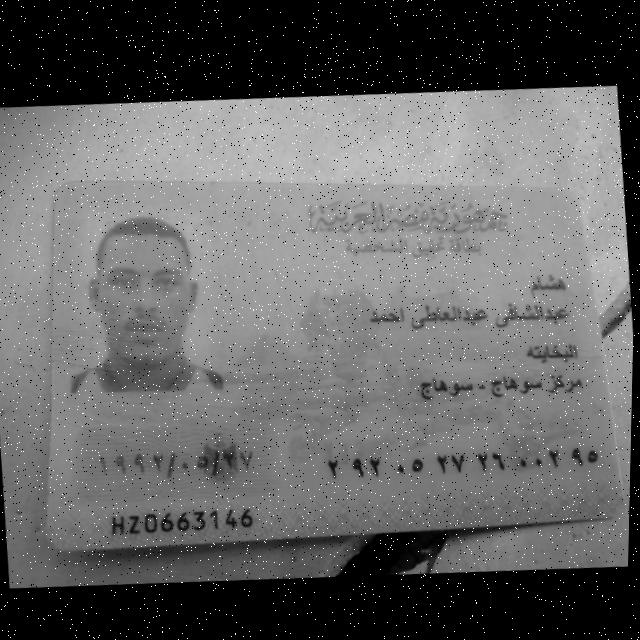card: (47, 182, 622, 550)
